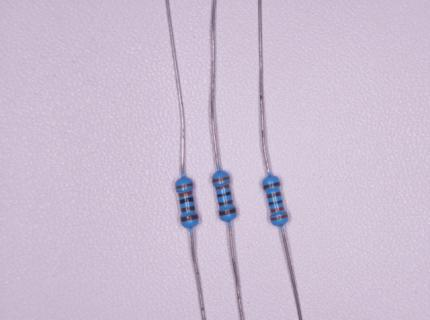Black band: (179, 196, 194, 205), (269, 199, 283, 206), (217, 191, 231, 198)
Brown band: (181, 214, 198, 222), (219, 208, 236, 216), (262, 182, 281, 189), (219, 199, 233, 206), (181, 206, 195, 212), (267, 192, 281, 198)
Orange band: (175, 182, 193, 189), (212, 176, 230, 183), (270, 214, 288, 221), (178, 190, 193, 197), (270, 206, 285, 213), (215, 184, 229, 190)
